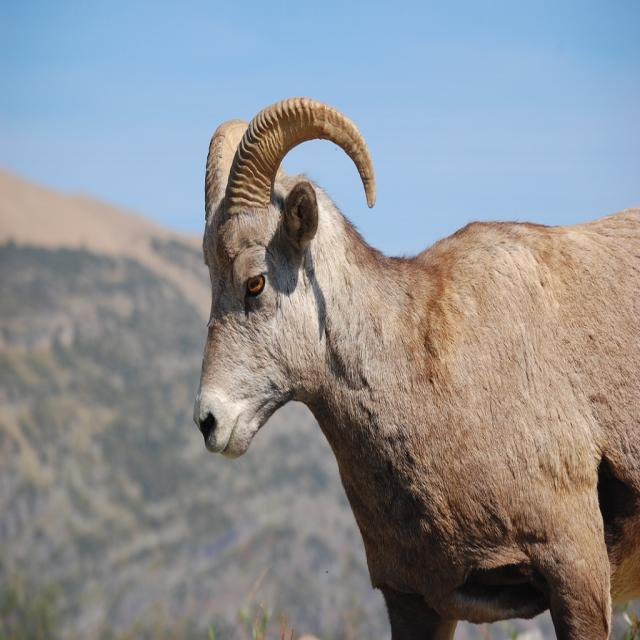Sheep: (193, 97, 640, 640)
